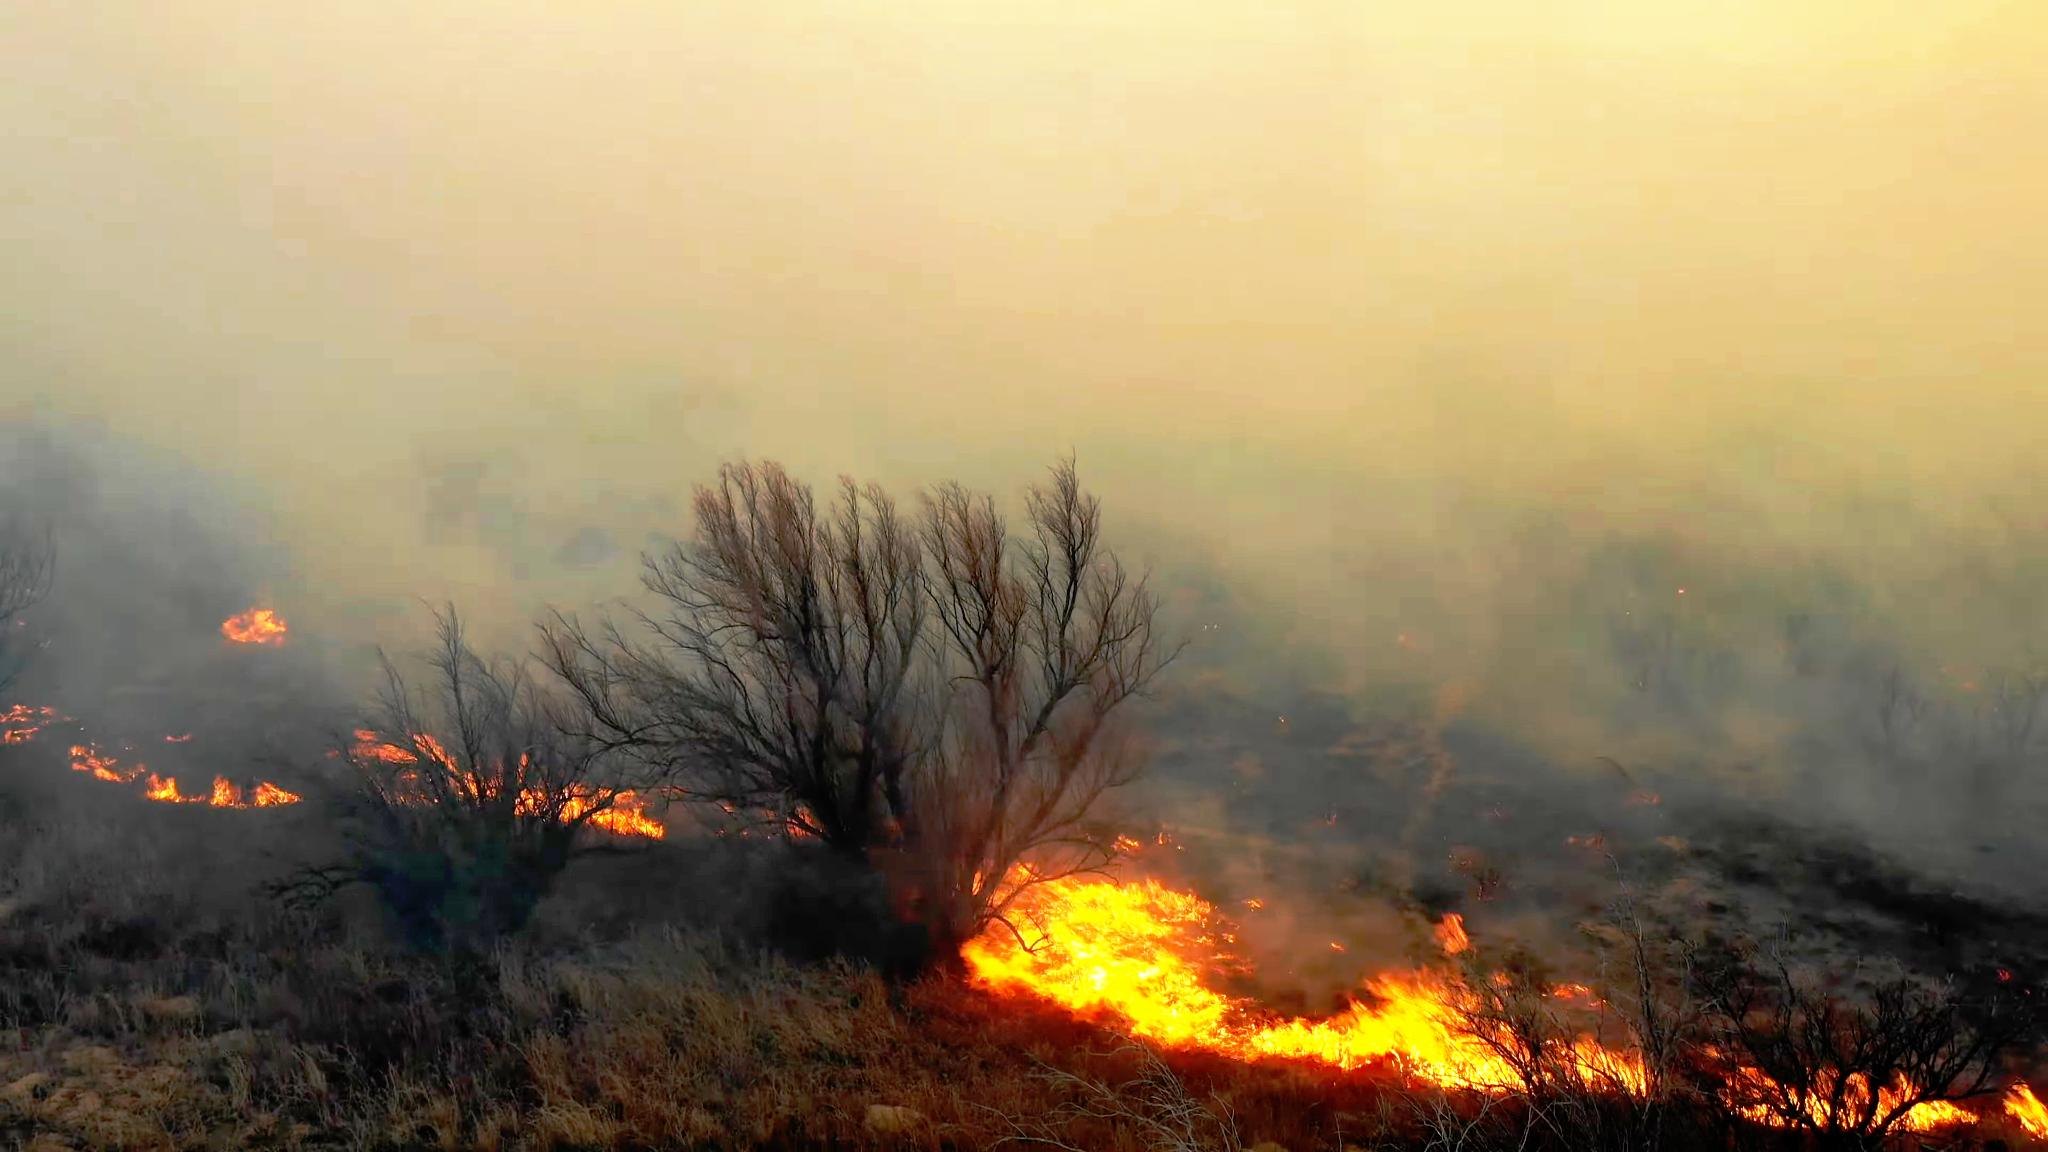fire: (1274, 907, 1544, 1090), (1000, 854, 1228, 1044)
